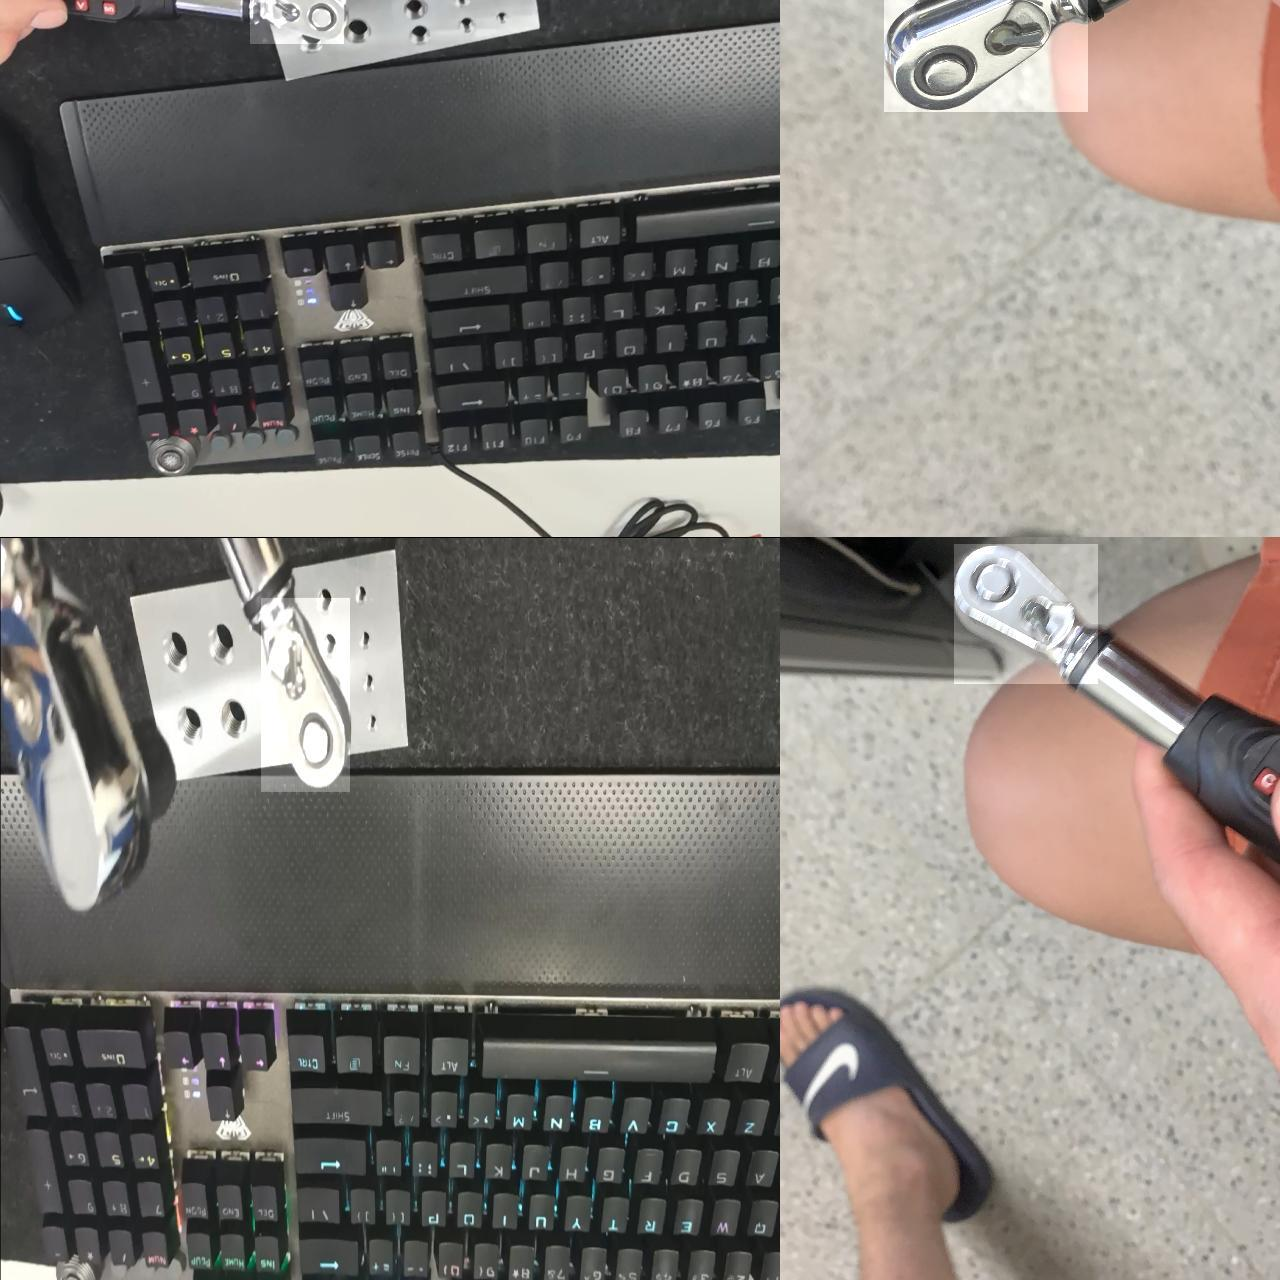Tool: (0, 537, 173, 925), (881, 0, 1087, 111), (953, 543, 1097, 683), (260, 597, 349, 791), (248, 0, 343, 43)
